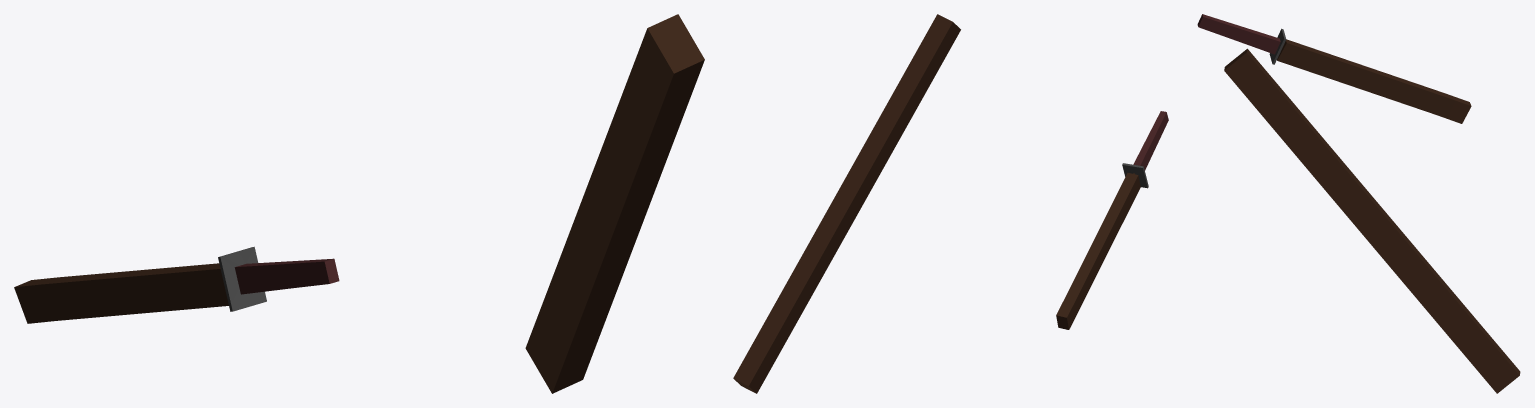
The model's file is Wakizashi n Saya.fbx.
3 renders of one model, left to right at view 1: azimuth 30°, elevation 25°; view 2: azimuth 150°, elevation 25°; view 3: azimuth 270°, elevation 25°, orthographic. The views are drawn at different scales.
Visible parts, largest first — view 1: Wakizashi n Saya; view 2: Wakizashi n Saya; view 3: Wakizashi n Saya.
Boxes of the visible parts, bbox=[...] form: Wakizashi n Saya: bbox=[14, 14, 704, 393]; Wakizashi n Saya: bbox=[733, 14, 1168, 393]; Wakizashi n Saya: bbox=[1197, 14, 1520, 393].
Size of the model in its own units: 3084 by 2867 by 2716.
